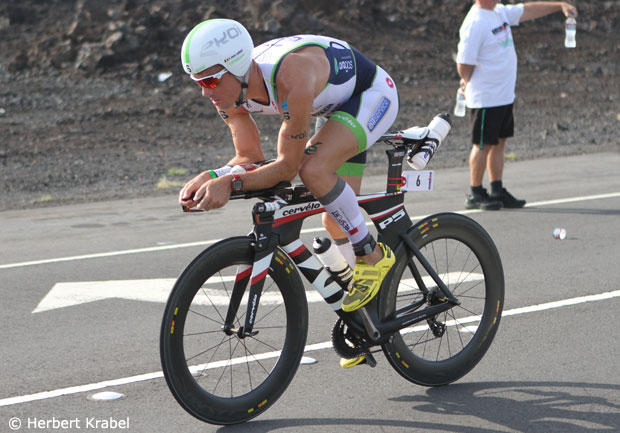helmet: (179, 17, 258, 78)
